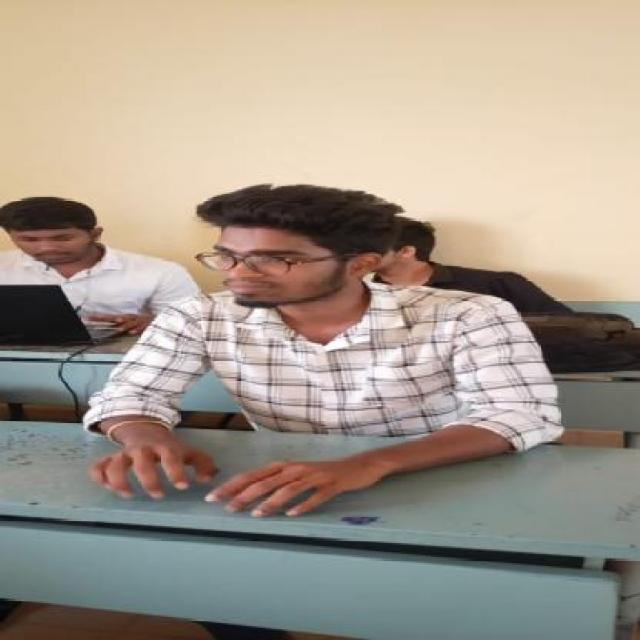good: (73, 177, 580, 537), (3, 186, 209, 346)
